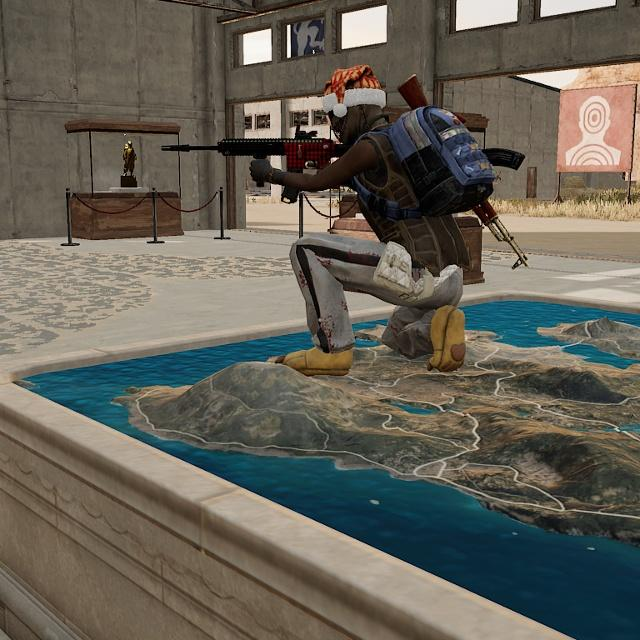head: (316, 62, 387, 141)
people: (281, 61, 486, 380)
